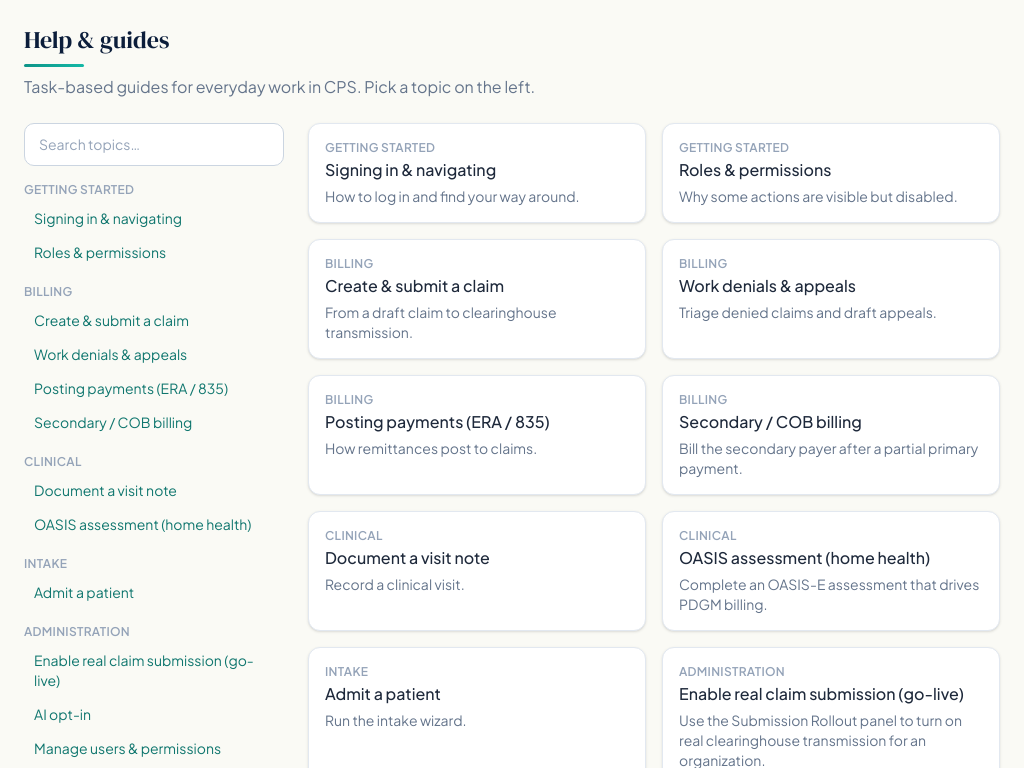
Scenario: HelpPage › shows a no-results message when nothing matches
Type "zzzzz-nope" into the search field with test id "help-search" at (154, 144), box [24,123,284,166]
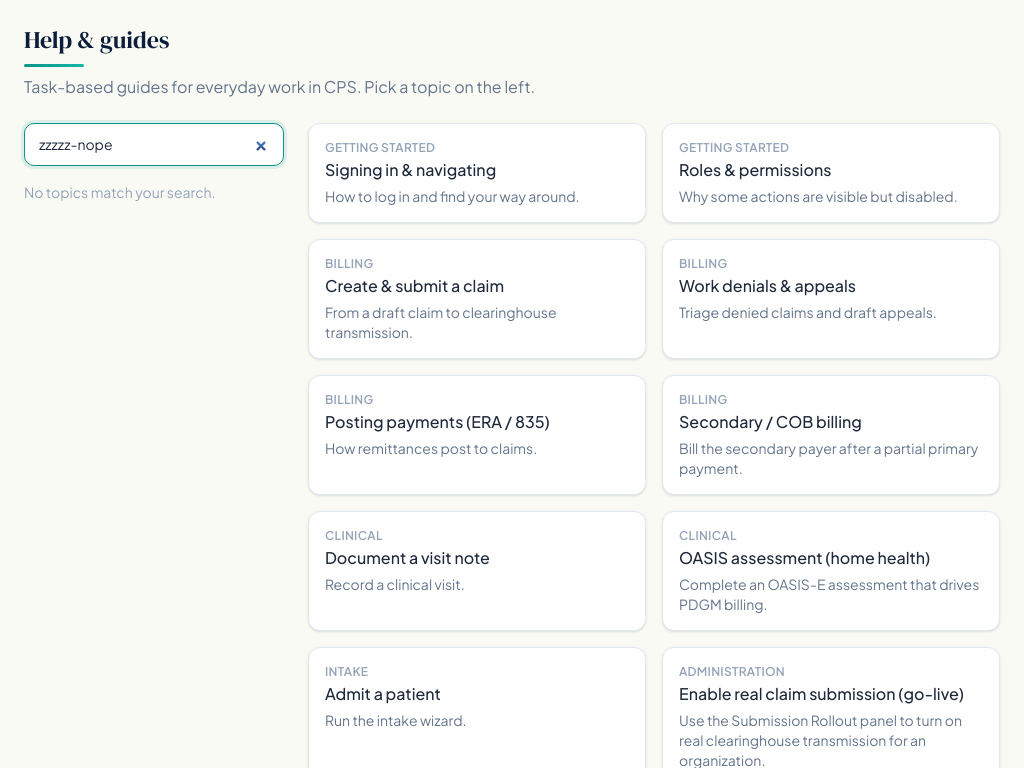
Check: the text "No topics match your search." is shown, box [24,183,216,201]
